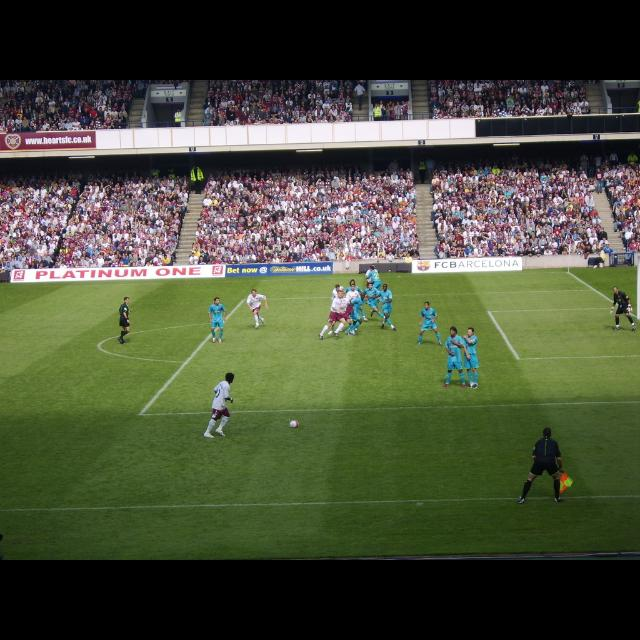Football: (289, 419, 297, 427)
